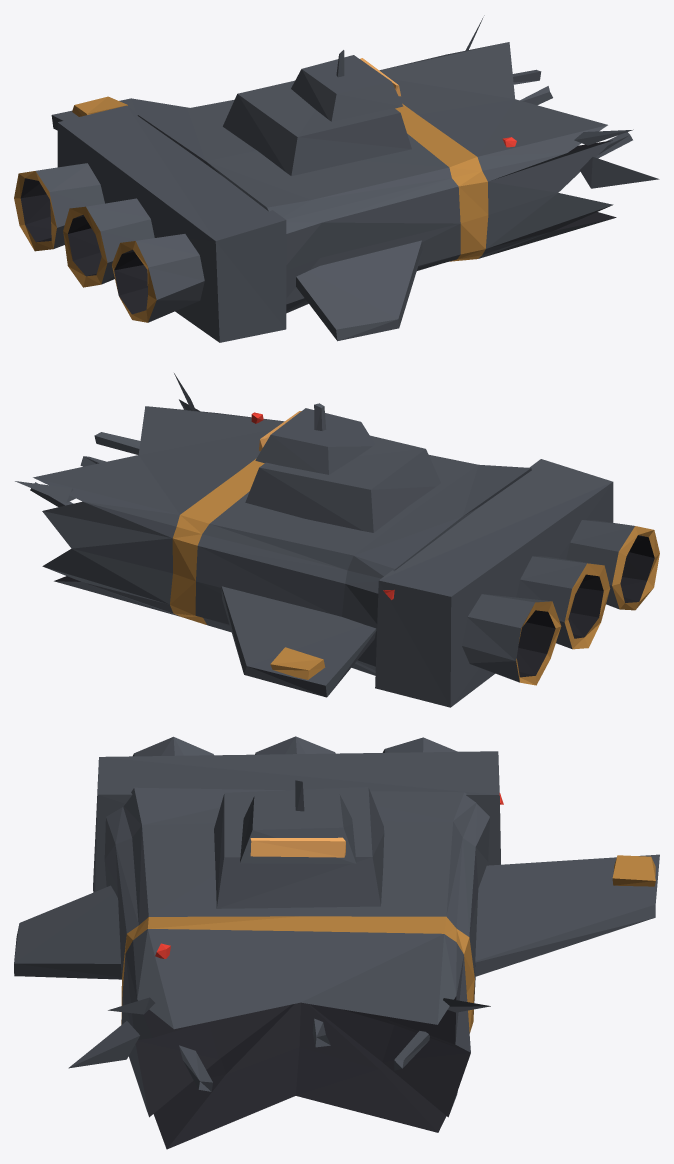
The model's file is SM_Wreck_Stern.fbx.
3 views of the same model, one above another, from view 1: azimuth 30°, elevation 25°; view 2: azimuth 150°, elevation 25°; view 3: azimuth 270°, elevation 25° (orthographic). The views are drawn at different scales.
Parts seen in each view (by area): view 1: SM_Wreck_Stern; view 2: SM_Wreck_Stern; view 3: SM_Wreck_Stern.
Boxes of the visible parts, x1,y1,x2,y2 form: SM_Wreck_Stern: (14,15,659,342); SM_Wreck_Stern: (15,373,659,707); SM_Wreck_Stern: (14,736,659,1149).
Size of what is drawn, in the model's own units: 668 by 575 by 237.
